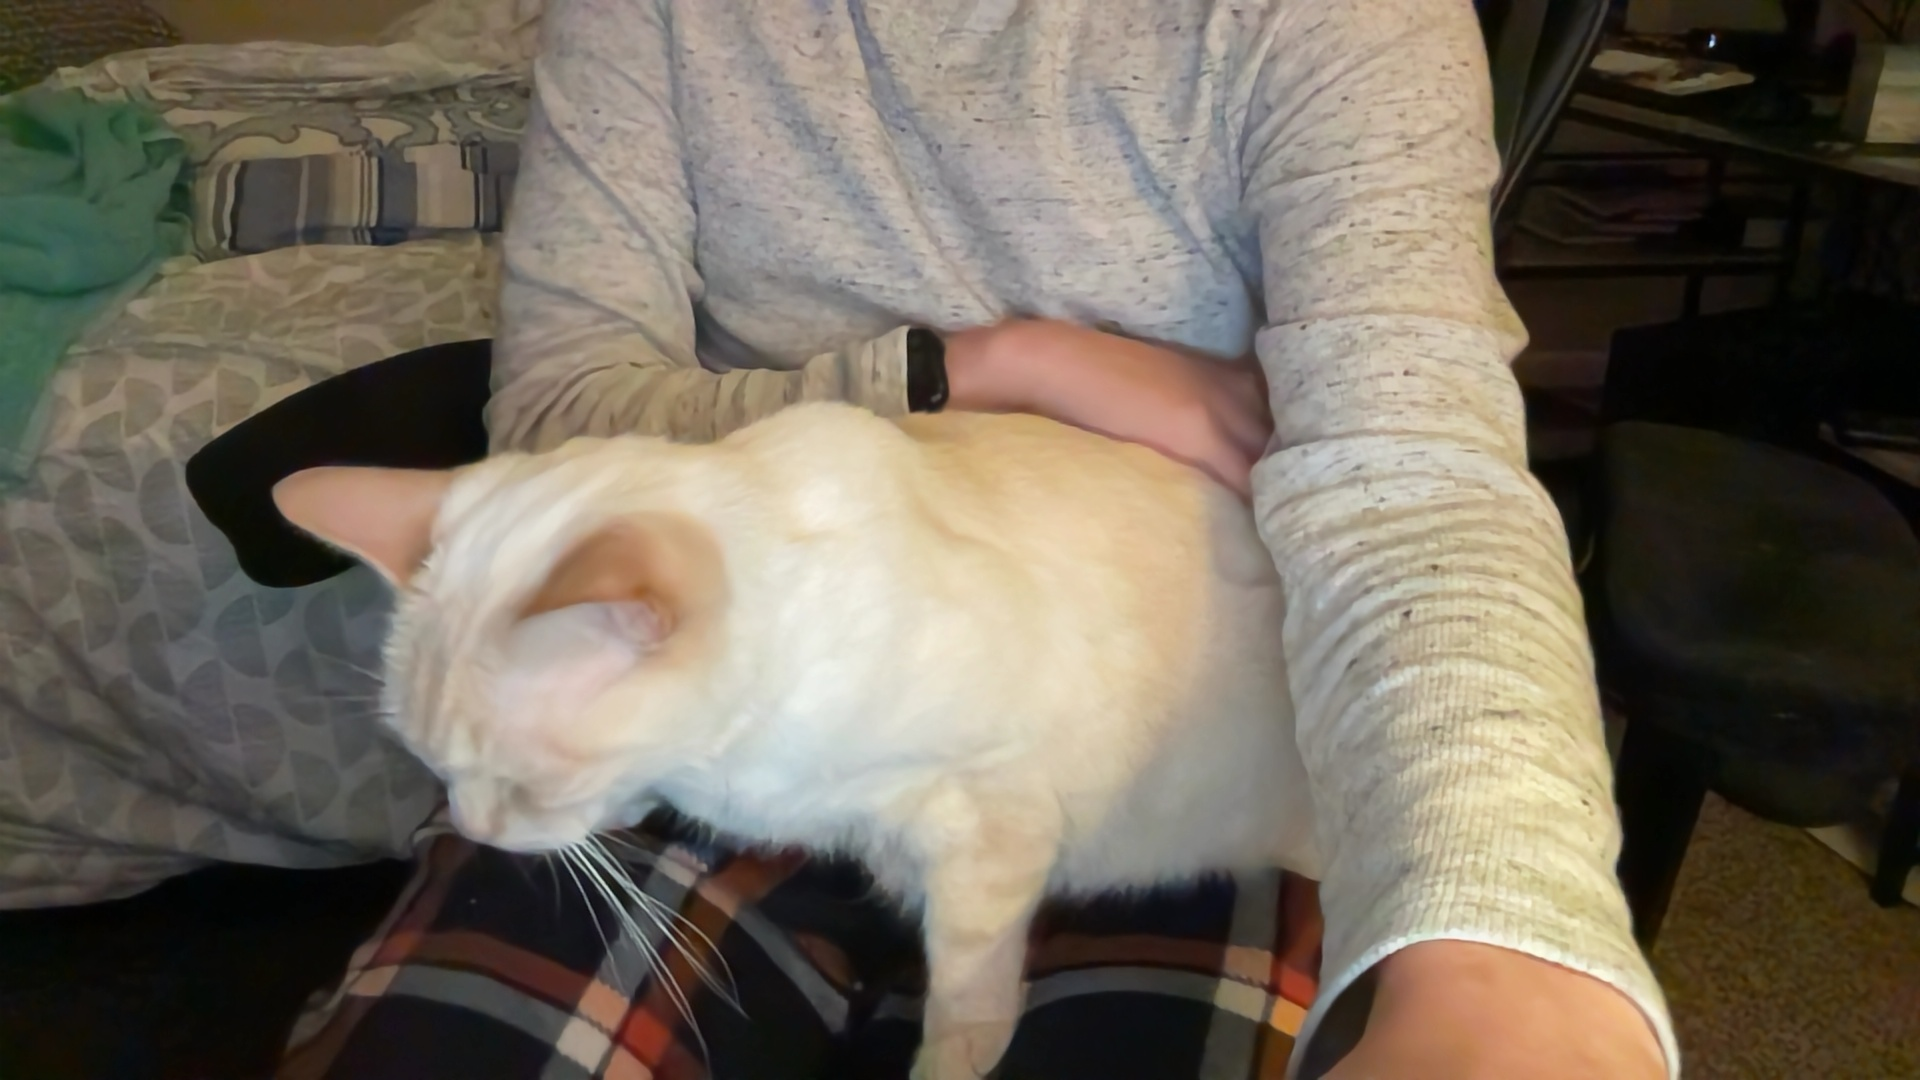cat: (282, 367, 1335, 1080)
